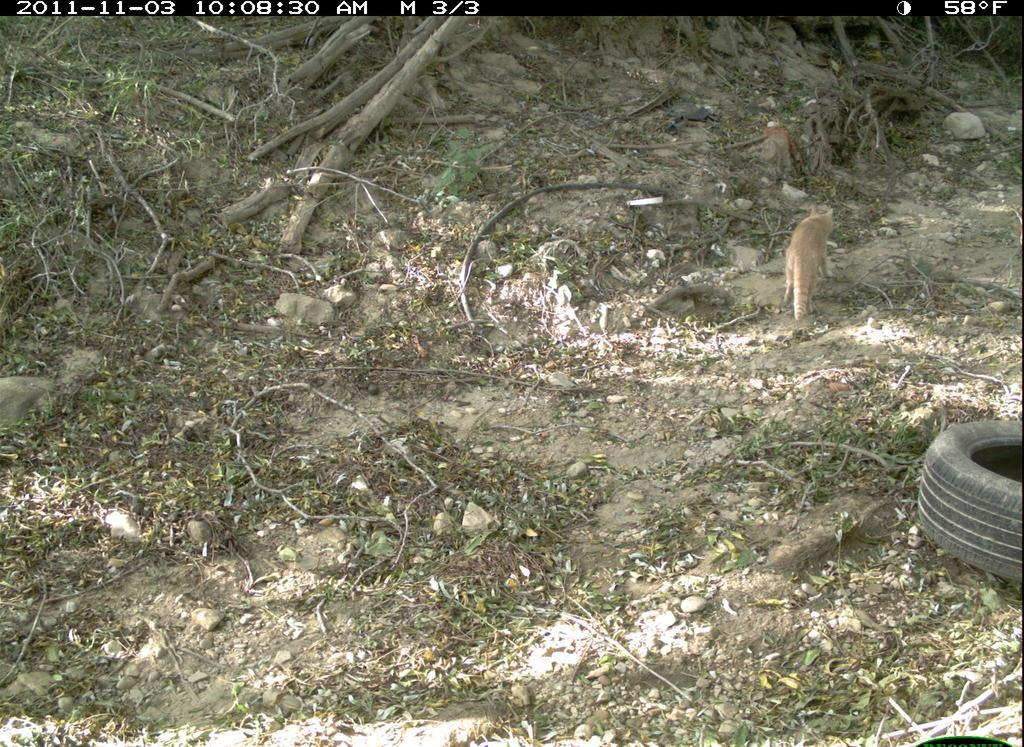cat: (767, 196, 861, 336)
